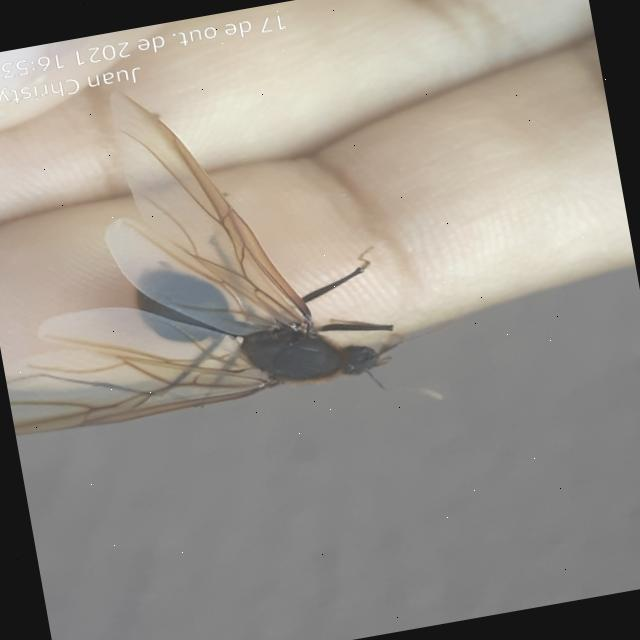Alive-Male-Alate: (0, 40, 470, 474)
